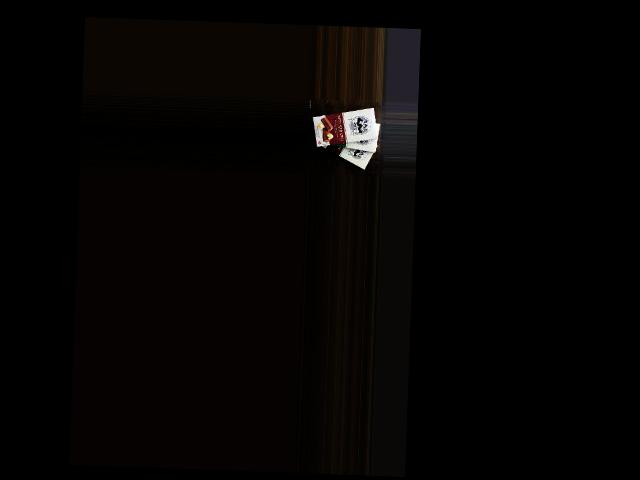chocolate: (311, 126, 379, 170)
